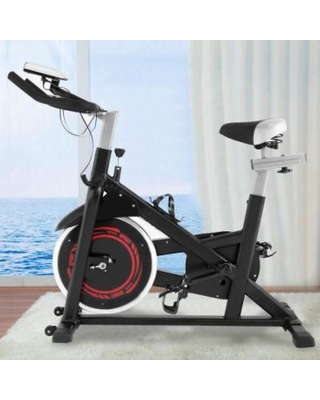gym_bike: (8, 60, 313, 347)
